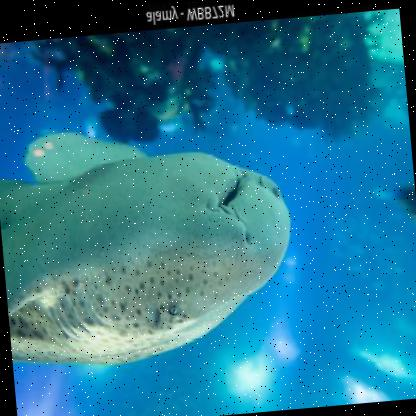zebra_shark: (0, 101, 310, 383)
